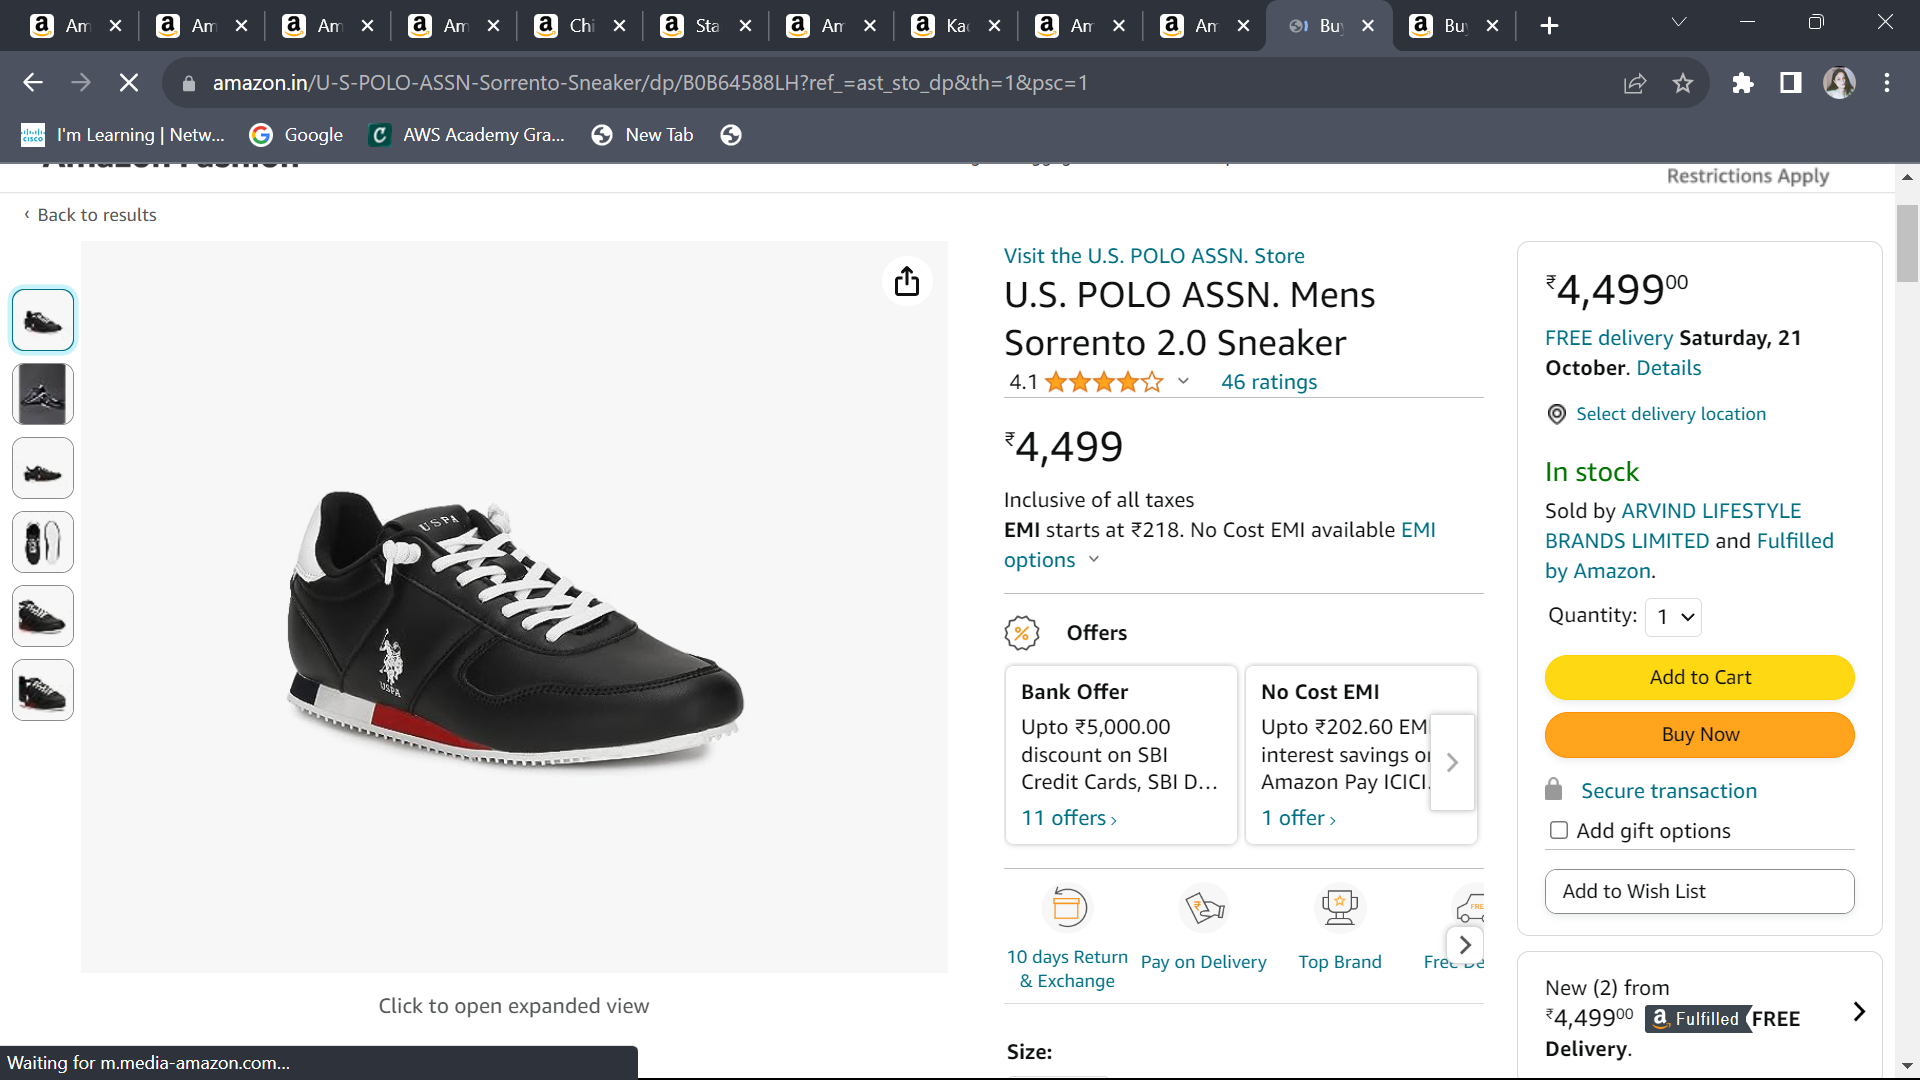Image: (215, 338, 806, 890)
Paragraph: (989, 603, 1523, 878), (994, 236, 1403, 361), (985, 489, 1457, 579), (1528, 454, 1840, 585), (1544, 651, 1882, 770), (1532, 973, 1797, 1080), (1538, 305, 1809, 392), (1547, 777, 1816, 855), (985, 418, 1251, 481), (1538, 397, 1833, 436), (1540, 262, 1750, 316), (1549, 872, 1851, 907), (997, 368, 1350, 394), (1547, 603, 1735, 633)
